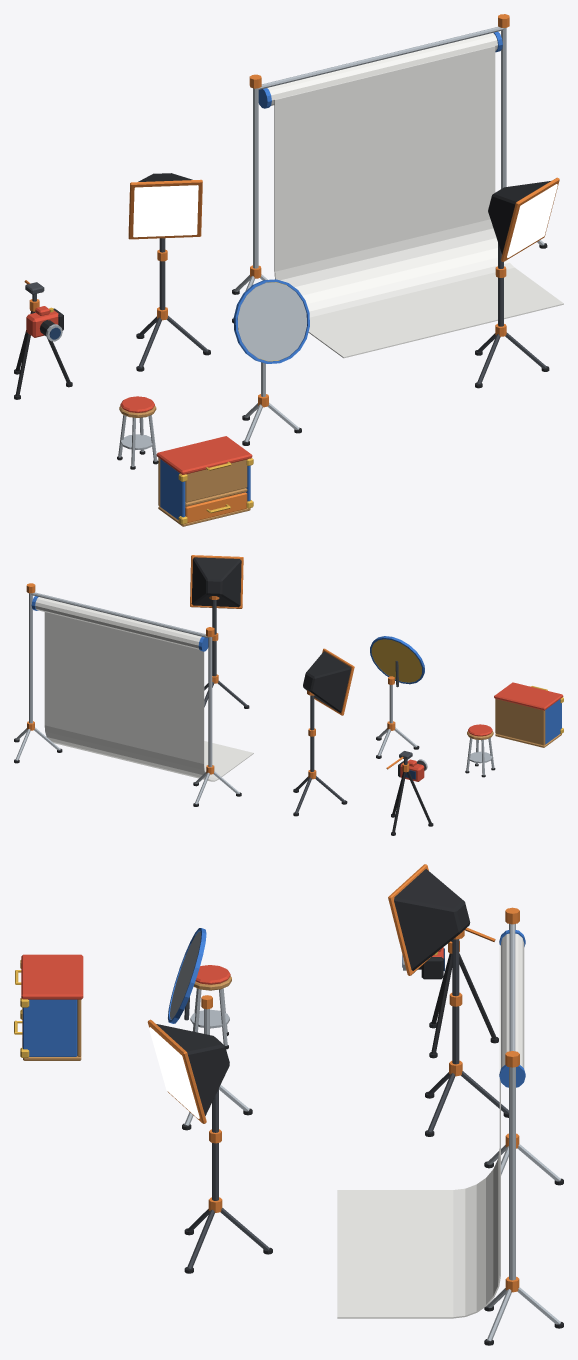
Rendered from low-poly-photo-studio.glb.
The picture shows the model from 3 angles, top to bottom: view 1: azimuth 30°, elevation 25°; view 2: azimuth 150°, elevation 25°; view 3: azimuth 270°, elevation 25°; orthographic projection. The views are drawn at different scales.
Visible parts, largest first — view 1: Backdrop_Stand, Softbox_Left, Softbox_Right, Reflector_Disc, Props_Box, Lid, Stool, Drawer, Camera_Tripod, Camera, Reflector; view 2: Backdrop_Stand, Softbox_Right, Softbox_Left, Props_Box, Reflector_Disc, Lid, Stool, Camera_Tripod, Reflector, Camera; view 3: Backdrop_Stand, Softbox_Left, Softbox_Right, Props_Box, Lid, Reflector_Disc, Stool, Camera_Tripod, Reflector, Camera.
Part boxes in pixels (x1,y1,x2,y2): Backdrop_Stand: [232, 14, 563, 358]; Softbox_Left: [128, 173, 210, 371]; Softbox_Right: [475, 177, 559, 388]; Reflector_Disc: [233, 279, 309, 363]; Props_Box: [158, 457, 253, 526]; Lid: [156, 436, 252, 474]; Stool: [117, 396, 158, 469]; Drawer: [185, 492, 247, 523]; Camera_Tripod: [14, 280, 72, 399]; Camera: [26, 306, 63, 341]; Reflector: [242, 362, 301, 445]; Backdrop_Stand: [14, 583, 253, 806]; Softbox_Right: [190, 555, 249, 708]; Softbox_Left: [293, 648, 354, 816]; Props_Box: [495, 697, 563, 747]; Reflector_Disc: [370, 636, 424, 687]; Lid: [494, 682, 563, 710]; Stool: [465, 724, 495, 777]; Camera_Tripod: [386, 751, 433, 835]; Reflector: [376, 676, 419, 758]; Camera: [398, 759, 427, 781]; Backdrop_Stand: [337, 907, 563, 1345]; Softbox_Left: [388, 864, 508, 1136]; Softbox_Right: [147, 1019, 272, 1273]; Props_Box: [20, 960, 81, 1060]; Lid: [15, 954, 83, 999]; Reflector_Disc: [168, 928, 206, 1023]; Stool: [190, 965, 231, 1049]; Camera_Tripod: [429, 927, 498, 1058]; Reflector: [182, 995, 252, 1130]; Camera: [402, 947, 444, 979].
Bounding box in the file's own units: 26.33 × 10.3 × 18.83.
